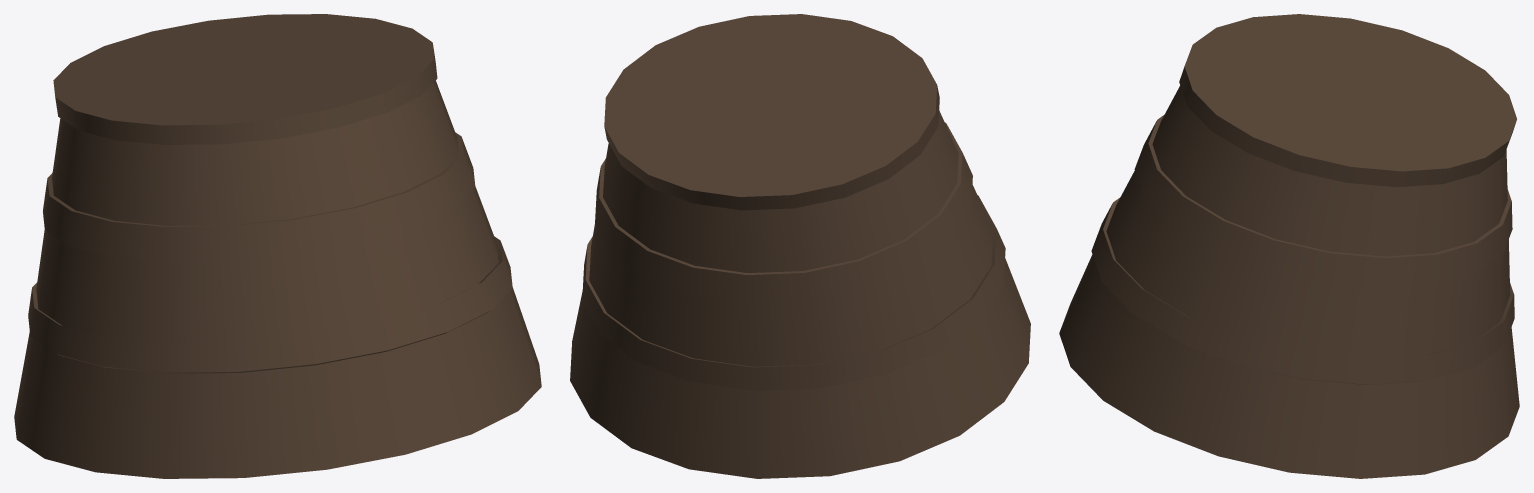
The model's file is bucket hat.fbx.
3 renders of one model, left to right at view 1: azimuth 30°, elevation 25°; view 2: azimuth 150°, elevation 25°; view 3: azimuth 270°, elevation 25°, orthographic. The views are drawn at different scales.
Parts seen in each view (by area): view 1: polySurface495; view 2: polySurface495; view 3: polySurface495.
Boxes of the visible parts, x1,y1,x2,y2 form: polySurface495: [14, 14, 541, 478]; polySurface495: [570, 14, 1030, 478]; polySurface495: [1059, 14, 1519, 478].
Bounding box in the file's own units: 0.0901 × 0.0696 × 0.0853.
